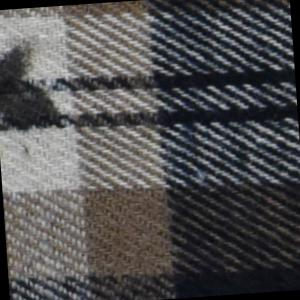Stain: (1, 33, 71, 162)
